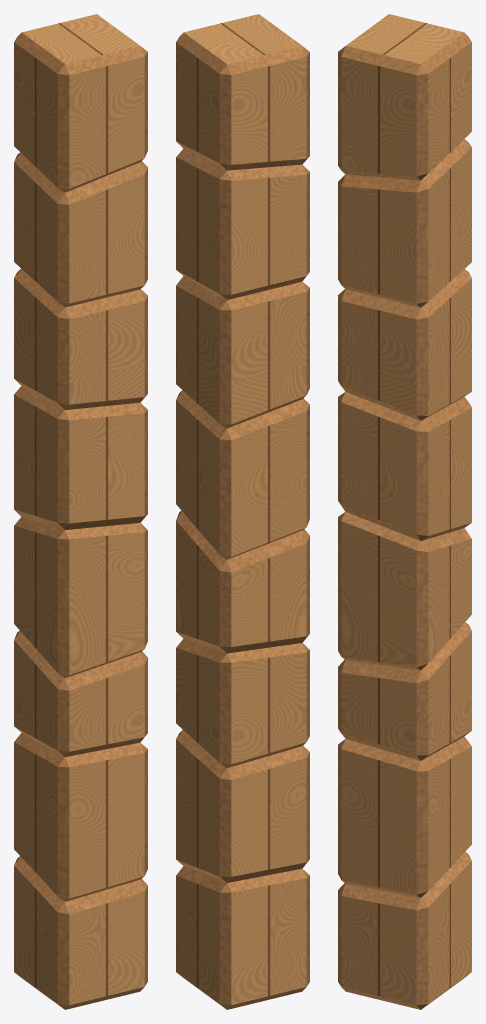
Rendered from Kit_Wood_Joint_Fractured.glb.
3 renders of one model, left to right at view 1: azimuth 30°, elevation 25°; view 2: azimuth 210°, elevation 25°; view 3: azimuth 330°, elevation 25°, orthographic.
Parts seen in each view (by area): view 1: Kit_Wood_Joint_frag_08, Kit_Wood_Joint_frag_02, Kit_Wood_Joint_frag_04, Kit_Wood_Joint_frag_05, Kit_Wood_Joint_frag_07, Kit_Wood_Joint_frag_01, Kit_Wood_Joint_frag_06, Kit_Wood_Joint_frag_03; view 2: Kit_Wood_Joint_frag_08, Kit_Wood_Joint_frag_05, Kit_Wood_Joint_frag_07, Kit_Wood_Joint_frag_01, Kit_Wood_Joint_frag_06, Kit_Wood_Joint_frag_02, Kit_Wood_Joint_frag_04, Kit_Wood_Joint_frag_03; view 3: Kit_Wood_Joint_frag_08, Kit_Wood_Joint_frag_02, Kit_Wood_Joint_frag_04, Kit_Wood_Joint_frag_07, Kit_Wood_Joint_frag_05, Kit_Wood_Joint_frag_01, Kit_Wood_Joint_frag_06, Kit_Wood_Joint_frag_03.
Boxes of the visible parts, x1,y1,x2,y2 form: Kit_Wood_Joint_frag_08: (14, 14, 147, 192); Kit_Wood_Joint_frag_02: (14, 733, 147, 901); Kit_Wood_Joint_frag_04: (14, 517, 147, 678); Kit_Wood_Joint_frag_05: (14, 386, 147, 529); Kit_Wood_Joint_frag_07: (14, 152, 147, 307); Kit_Wood_Joint_frag_01: (14, 856, 147, 1009); Kit_Wood_Joint_frag_06: (14, 268, 147, 409); Kit_Wood_Joint_frag_03: (14, 630, 147, 756); Kit_Wood_Joint_frag_08: (176, 14, 309, 170); Kit_Wood_Joint_frag_05: (176, 390, 309, 559); Kit_Wood_Joint_frag_07: (176, 148, 309, 299); Kit_Wood_Joint_frag_01: (176, 866, 309, 1009); Kit_Wood_Joint_frag_06: (176, 276, 309, 428); Kit_Wood_Joint_frag_02: (176, 730, 309, 882); Kit_Wood_Joint_frag_04: (176, 511, 309, 653); Kit_Wood_Joint_frag_03: (176, 638, 309, 768); Kit_Wood_Joint_frag_08: (338, 14, 471, 180); Kit_Wood_Joint_frag_02: (338, 736, 471, 897); Kit_Wood_Joint_frag_04: (338, 512, 471, 670); Kit_Wood_Joint_frag_07: (338, 139, 471, 307); Kit_Wood_Joint_frag_05: (338, 392, 471, 540); Kit_Wood_Joint_frag_01: (338, 852, 471, 1009); Kit_Wood_Joint_frag_06: (338, 269, 471, 420); Kit_Wood_Joint_frag_03: (338, 622, 471, 760).
Size of what is drawn, in the model's own units: 0.3 by 3 by 0.3.
2 materials, 2 textured.
